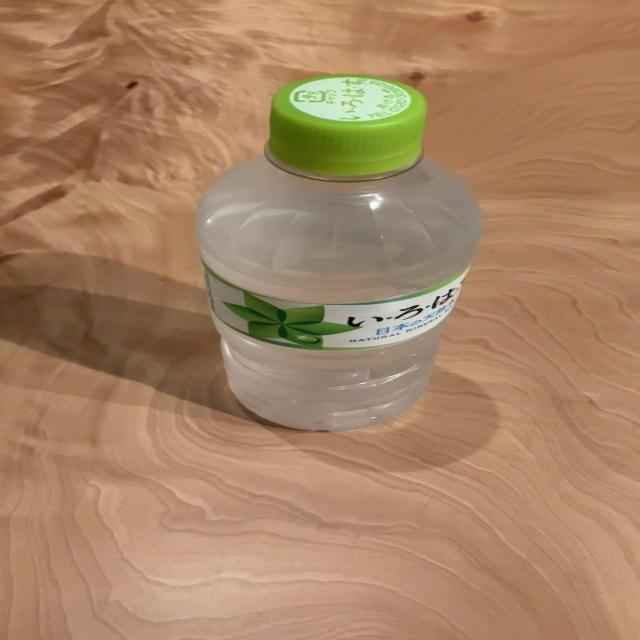good: (189, 70, 484, 433)
